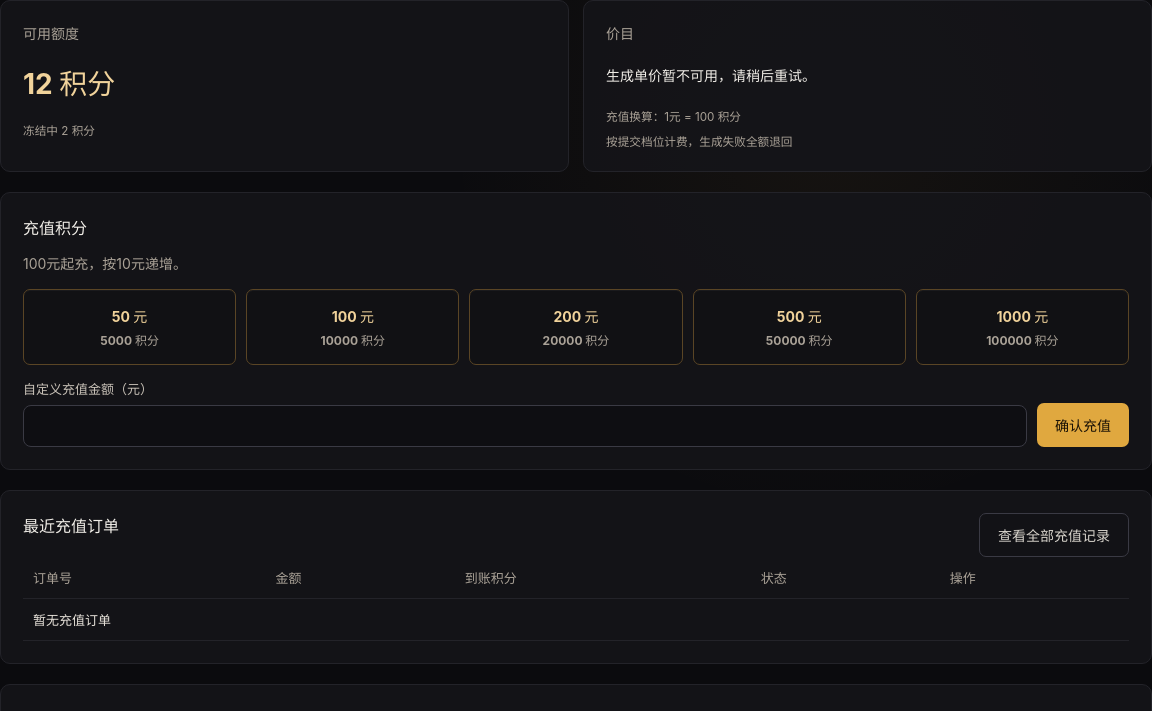
Test: CustomerWalletPanel › rejects a custom amount that is not an integer 10-yuan step
Expected: the text "12 积分" is shown, [23,67,115,101]
Type "101" into the number field labelled "自定义充值金额（元）" at (525, 426), box [23,405,1027,447]
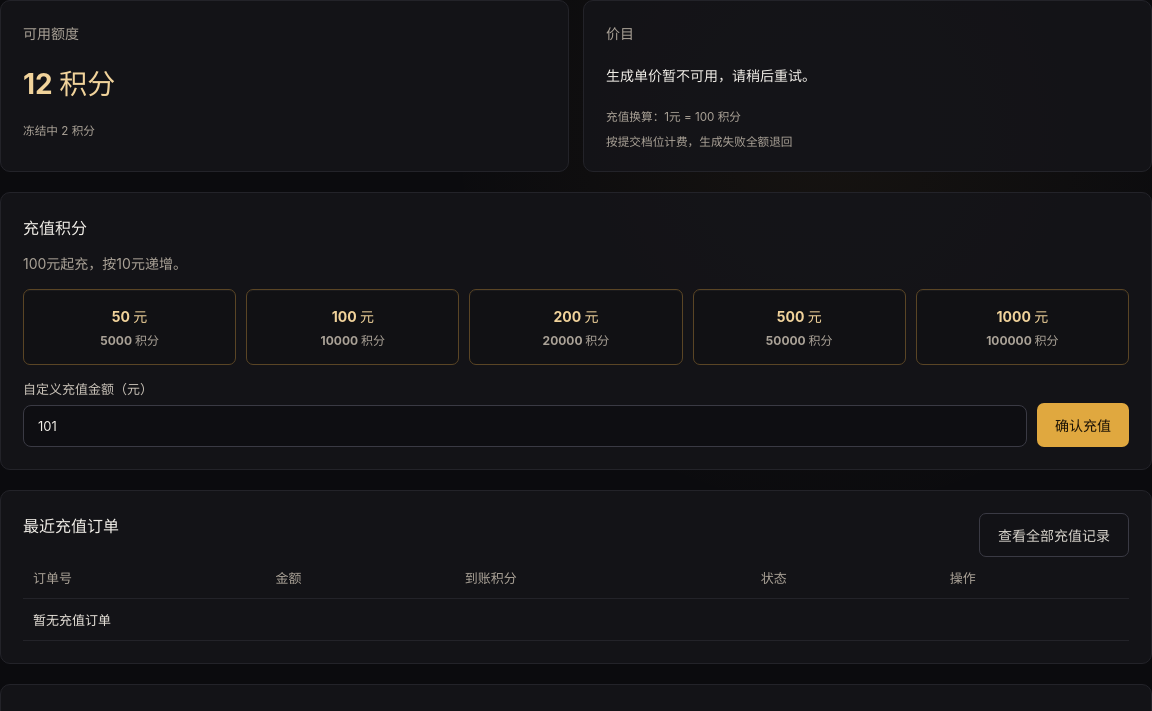
Click the button "确认充值" at (1083, 425), box [1037,403,1129,447]
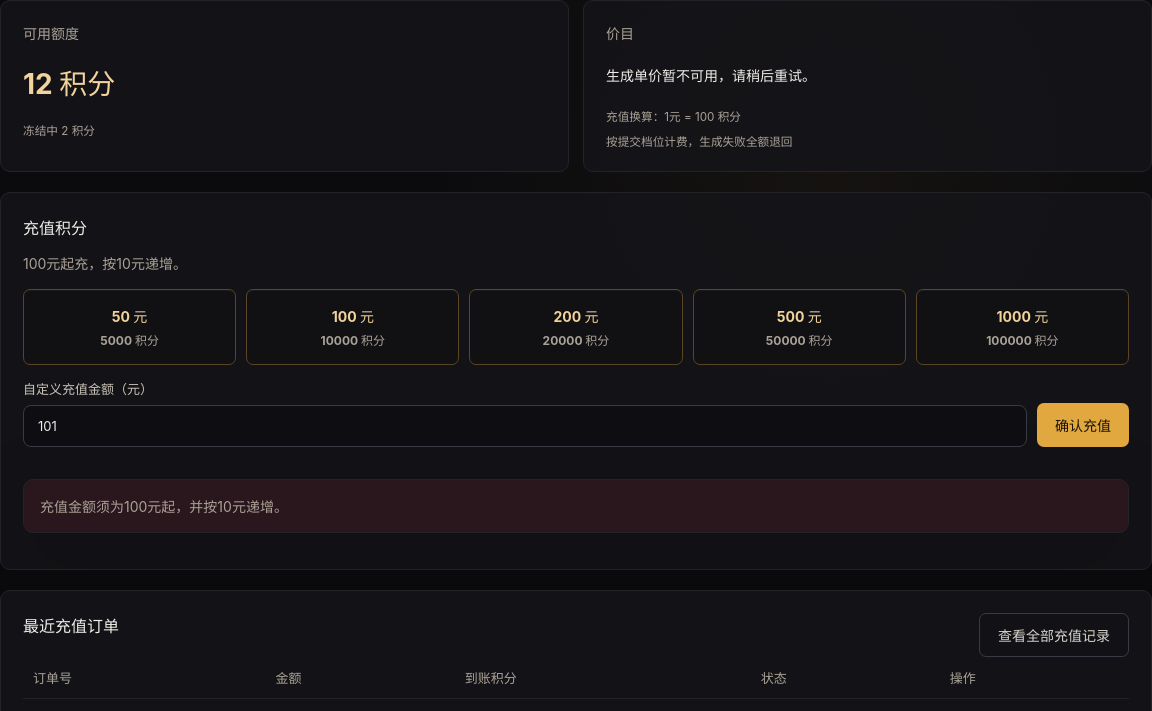
Result: the text "充值金额须为100元起，并按10元递增。" is shown at [23,479,1129,533]
